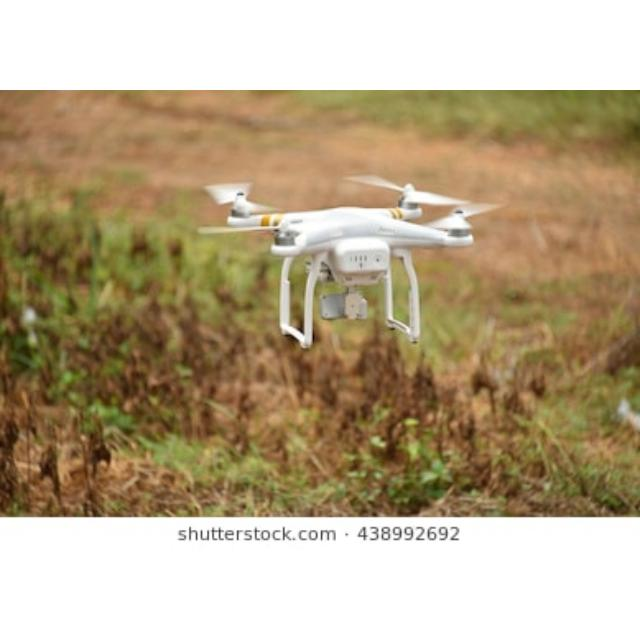Drones: (210, 185, 470, 342)
